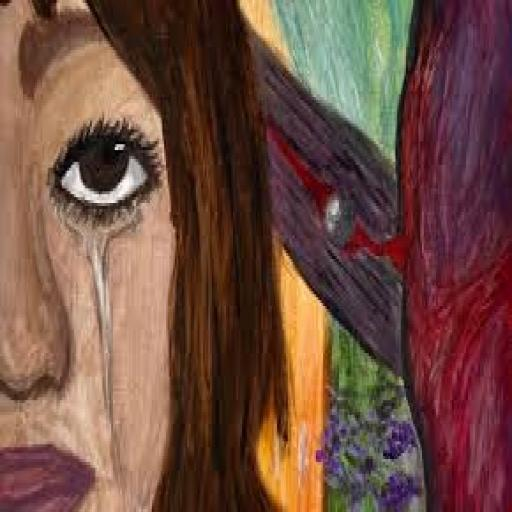person: (0, 0, 298, 509)
